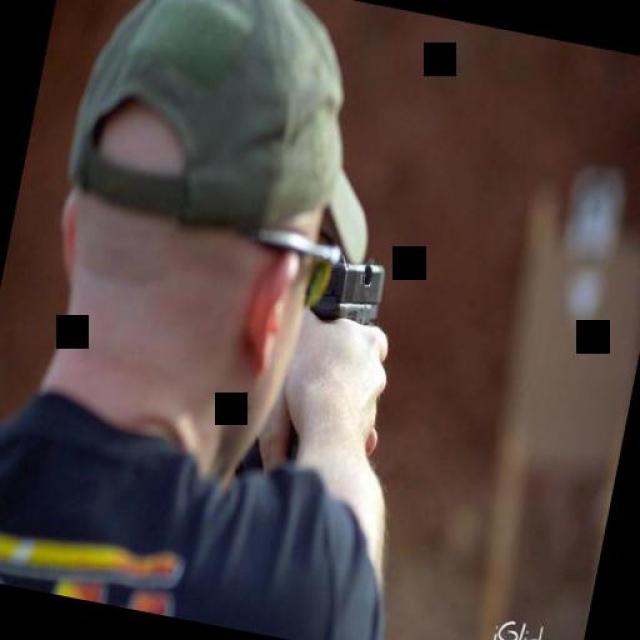gun: (301, 245, 390, 331)
